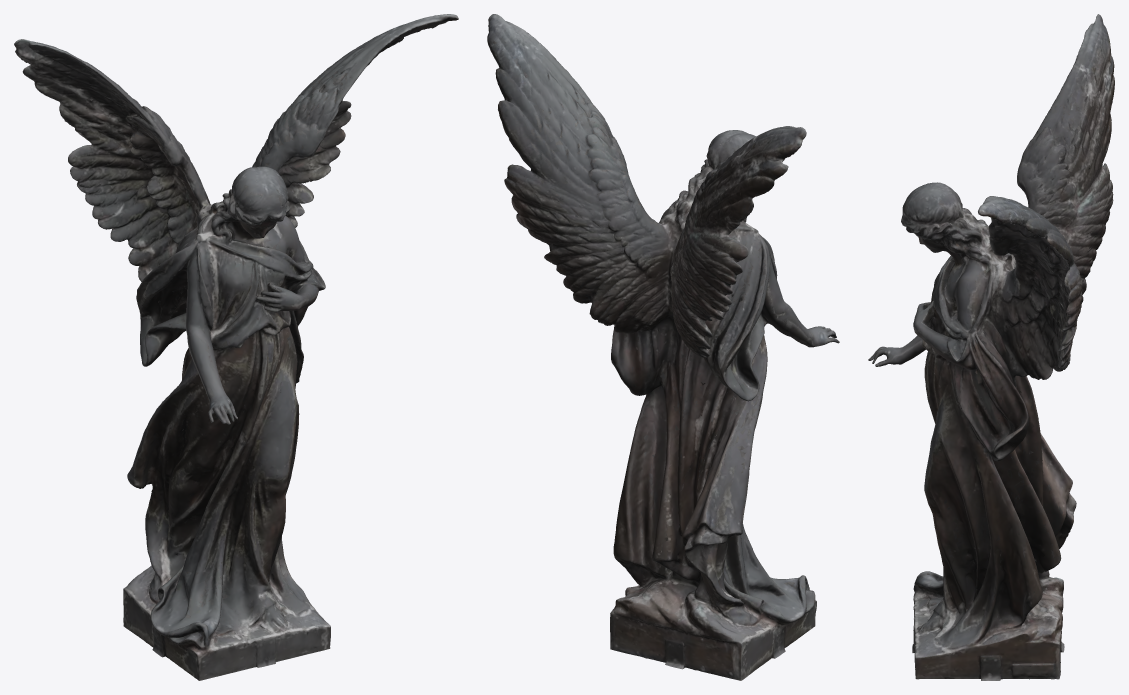
Rendered from engel.glb.
The picture shows the model from 3 angles, left to right: view 1: azimuth 30°, elevation 25°; view 2: azimuth 150°, elevation 25°; view 3: azimuth 270°, elevation 25°; orthographic projection. The views are drawn at different scales.
Parts seen in each view (by area): view 1: Object_10; view 2: Object_10; view 3: Object_10.
Boxes of the visible parts, x1,y1,x2,y2 form: Object_10: [14, 14, 458, 680]; Object_10: [487, 14, 839, 680]; Object_10: [868, 14, 1114, 680].
Bounding box in the file's own units: 4.25 × 6.29 × 2.49.
2 materials, 1 textured.
